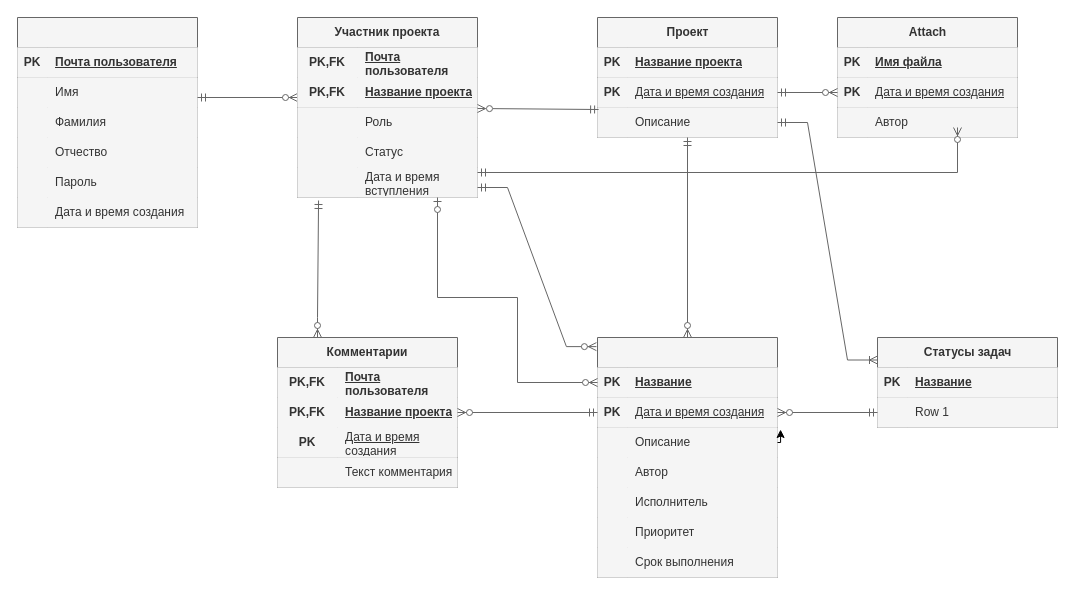
Image size: 1075x595. Some labels were removed from this diagram. Each missing label, with the box of its shape:
Задача: (596, 336, 778, 578)
Пользователь: (16, 16, 198, 228)
